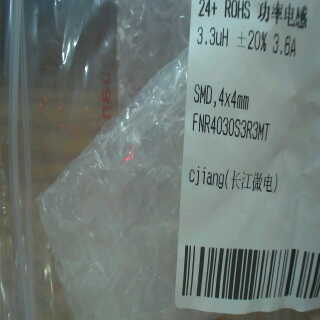3.3uH: (190, 23, 234, 47)
